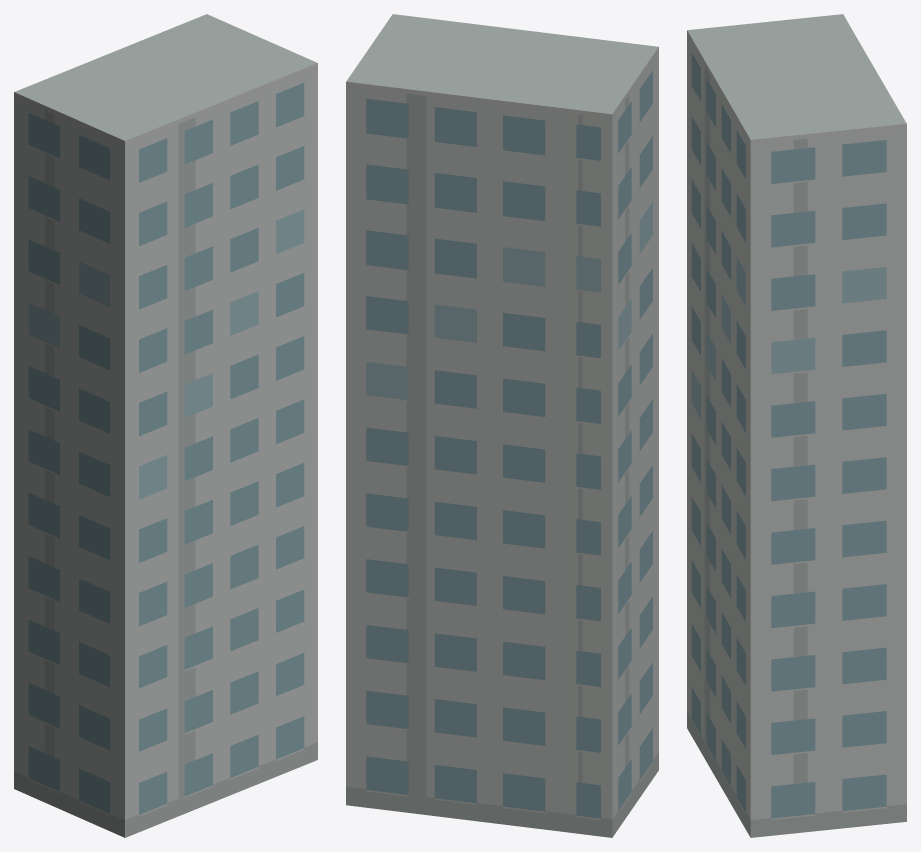
The model's file is residential-aff32418-ac73-418d-b939-99e646fe9142.glb.
3 views of the same model, side by side, from view 1: azimuth 30°, elevation 25°; view 2: azimuth 150°, elevation 25°; view 3: azimuth 270°, elevation 25° (orthographic). The views are drawn at different scales.
Parts seen in each view (by area): view 1: residential-aff32418-ac73-418d-b939-99e646fe9142.tmp; view 2: residential-aff32418-ac73-418d-b939-99e646fe9142.tmp; view 3: residential-aff32418-ac73-418d-b939-99e646fe9142.tmp.
Boxes of the visible parts, x1,y1,x2,y2 form: residential-aff32418-ac73-418d-b939-99e646fe9142.tmp: (14,14,317,837); residential-aff32418-ac73-418d-b939-99e646fe9142.tmp: (346,14,658,837); residential-aff32418-ac73-418d-b939-99e646fe9142.tmp: (687,14,906,837).
Bounding box in the file's own units: 14.71 × 38 × 10.85.
